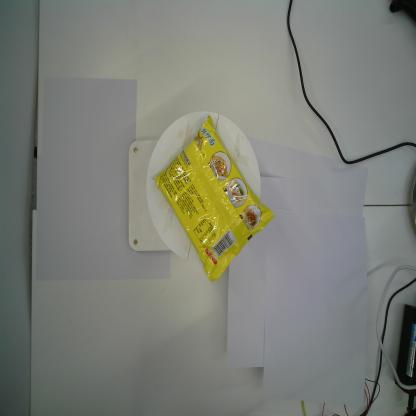Instant Noodles: (152, 114, 275, 283)
